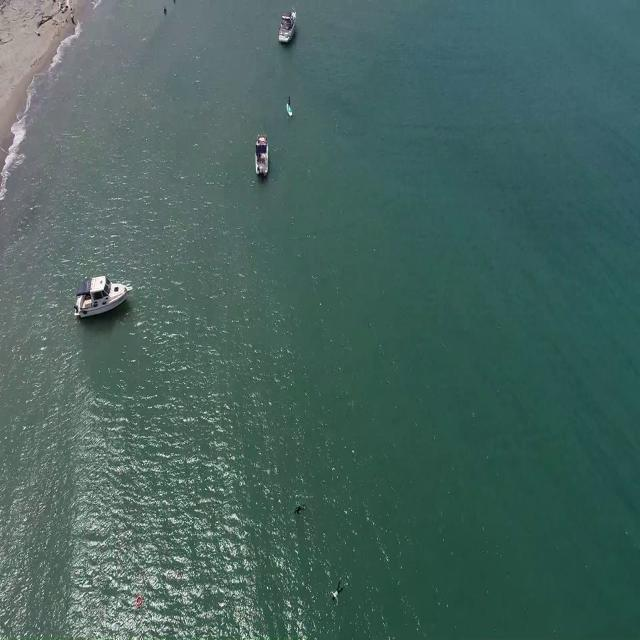boat: (75, 277, 130, 316), (254, 134, 272, 175), (278, 6, 296, 44)
life_buoy: (136, 595, 142, 608)
person: (330, 577, 346, 610), (294, 502, 308, 516), (162, 2, 170, 17), (287, 93, 293, 107)
surfboard: (285, 103, 294, 116)
